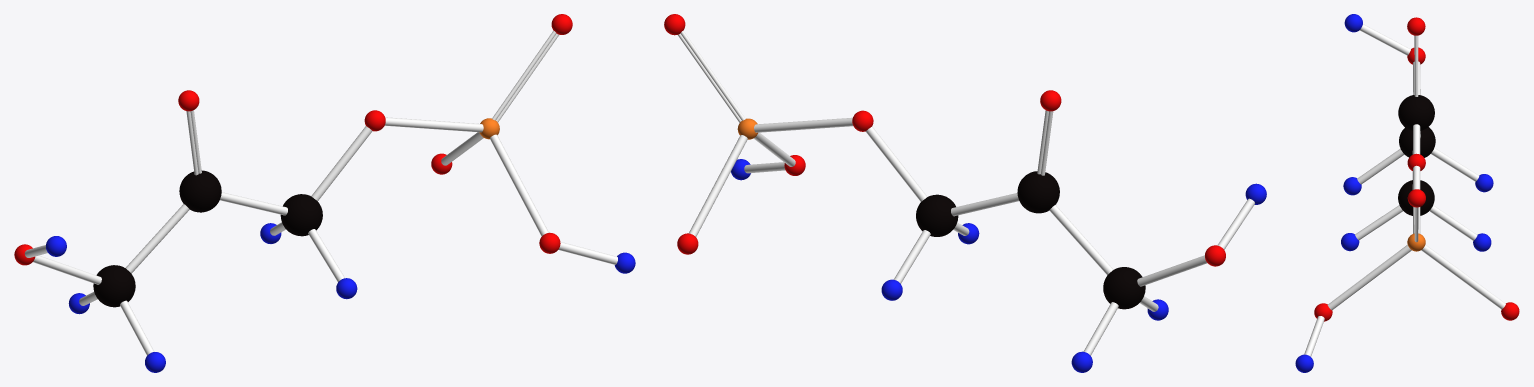
Rendered from Dihydroxyacetonephosphate_color.fbx.
The picture shows the model from 3 angles, left to right: view 1: azimuth 30°, elevation 25°; view 2: azimuth 150°, elevation 25°; view 3: azimuth 270°, elevation 25°; orthographic projection. The views are drawn at different scales.
Parts seen in each view (by area): view 1: Atom6_Clone___1_, Atom6_Clone___2_, Atom6_Clone_, Bond1_Clone___1_, Bond1_Clone_, Bond1_Clone___3_, Bond1_Clone___11_, Bond1_Clone___6_, Bond1_Clone___8_, Bond1_Clone___4_, Bond1_Clone___13_, Bond1_Clone___9_ (+1 smaller); view 2: Atom6_Clone___1_, Atom6_Clone___2_, Atom6_Clone_, Bond1_Clone___2_, Bond1_Clone_, Bond1_Clone___3_, Bond1_Clone___11_, Bond1_Clone___6_, Bond1_Clone___8_, Bond1_Clone___10_, Bond1_Clone___12_, Bond2B (+1 smaller); view 3: Atom6_Clone___1_, Bond1_Clone___1_, Bond1_Clone___2_, Atom6_Clone___2_, Atom6_Clone_, Bond1_Clone___7_, Bond1_Clone___9_, Bond1_Clone___10_, Bond1_Clone___12_, Bond1_Clone___13_, Bond1_Clone___4_, Bond1_Clone_ (+15 smaller).
Boxes of the visible parts, left/top/right/bottom form: Atom6_Clone___1_: left=179, top=170, right=221, bottom=212; Atom6_Clone___2_: left=93, top=265, right=135, bottom=307; Atom6_Clone_: left=280, top=194, right=322, bottom=236; Bond1_Clone___1_: left=490, top=134, right=548, bottom=236; Bond1_Clone_: left=385, top=117, right=483, bottom=132; Bond1_Clone___3_: left=311, top=126, right=372, bottom=201; Bond1_Clone___11_: left=125, top=204, right=189, bottom=273; Bond1_Clone___6_: left=33, top=255, right=101, bottom=284; Bond1_Clone___8_: left=220, top=192, right=287, bottom=215; Bond1_Clone___4_: left=558, top=242, right=617, bottom=264; Bond1_Clone___13_: left=120, top=300, right=154, bottom=355; Bond1_Clone___9_: left=308, top=229, right=344, bottom=281; Atom6_Clone___1_: left=1017, top=171, right=1059, bottom=213; Atom6_Clone___2_: left=1103, top=267, right=1145, bottom=309; Atom6_Clone_: left=916, top=194, right=958, bottom=236; Bond1_Clone___2_: left=688, top=135, right=747, bottom=236; Bond1_Clone_: left=754, top=117, right=853, bottom=132; Bond1_Clone___3_: left=865, top=126, right=927, bottom=201; Bond1_Clone___11_: left=1049, top=205, right=1113, bottom=275; Bond1_Clone___6_: left=1137, top=255, right=1207, bottom=286; Bond1_Clone___8_: left=951, top=193, right=1019, bottom=216; Bond1_Clone___10_: left=894, top=230, right=930, bottom=283; Bond1_Clone___12_: left=1083, top=302, right=1118, bottom=355; Bond2B: left=680, top=30, right=745, bottom=120; Atom6_Clone___1_: left=1398, top=95, right=1434, bottom=130; Bond1_Clone___1_: left=1327, top=245, right=1411, bottom=310; Bond1_Clone___2_: left=1421, top=244, right=1505, bottom=309; Atom6_Clone___2_: left=1399, top=127, right=1435, bottom=157; Atom6_Clone_: left=1398, top=180, right=1434, bottom=215; Bond1_Clone___7_: left=1359, top=24, right=1410, bottom=55; Bond1_Clone___9_: left=1355, top=205, right=1402, bottom=240; Bond1_Clone___10_: left=1429, top=205, right=1477, bottom=240; Bond1_Clone___12_: left=1431, top=148, right=1479, bottom=181; Bond1_Clone___13_: left=1357, top=148, right=1404, bottom=184; Bond1_Clone___4_: left=1304, top=316, right=1324, bottom=356; Bond1_Clone_: left=1413, top=165, right=1420, bottom=233.
Size of the model in its own units: 764 by 309 by 304.
